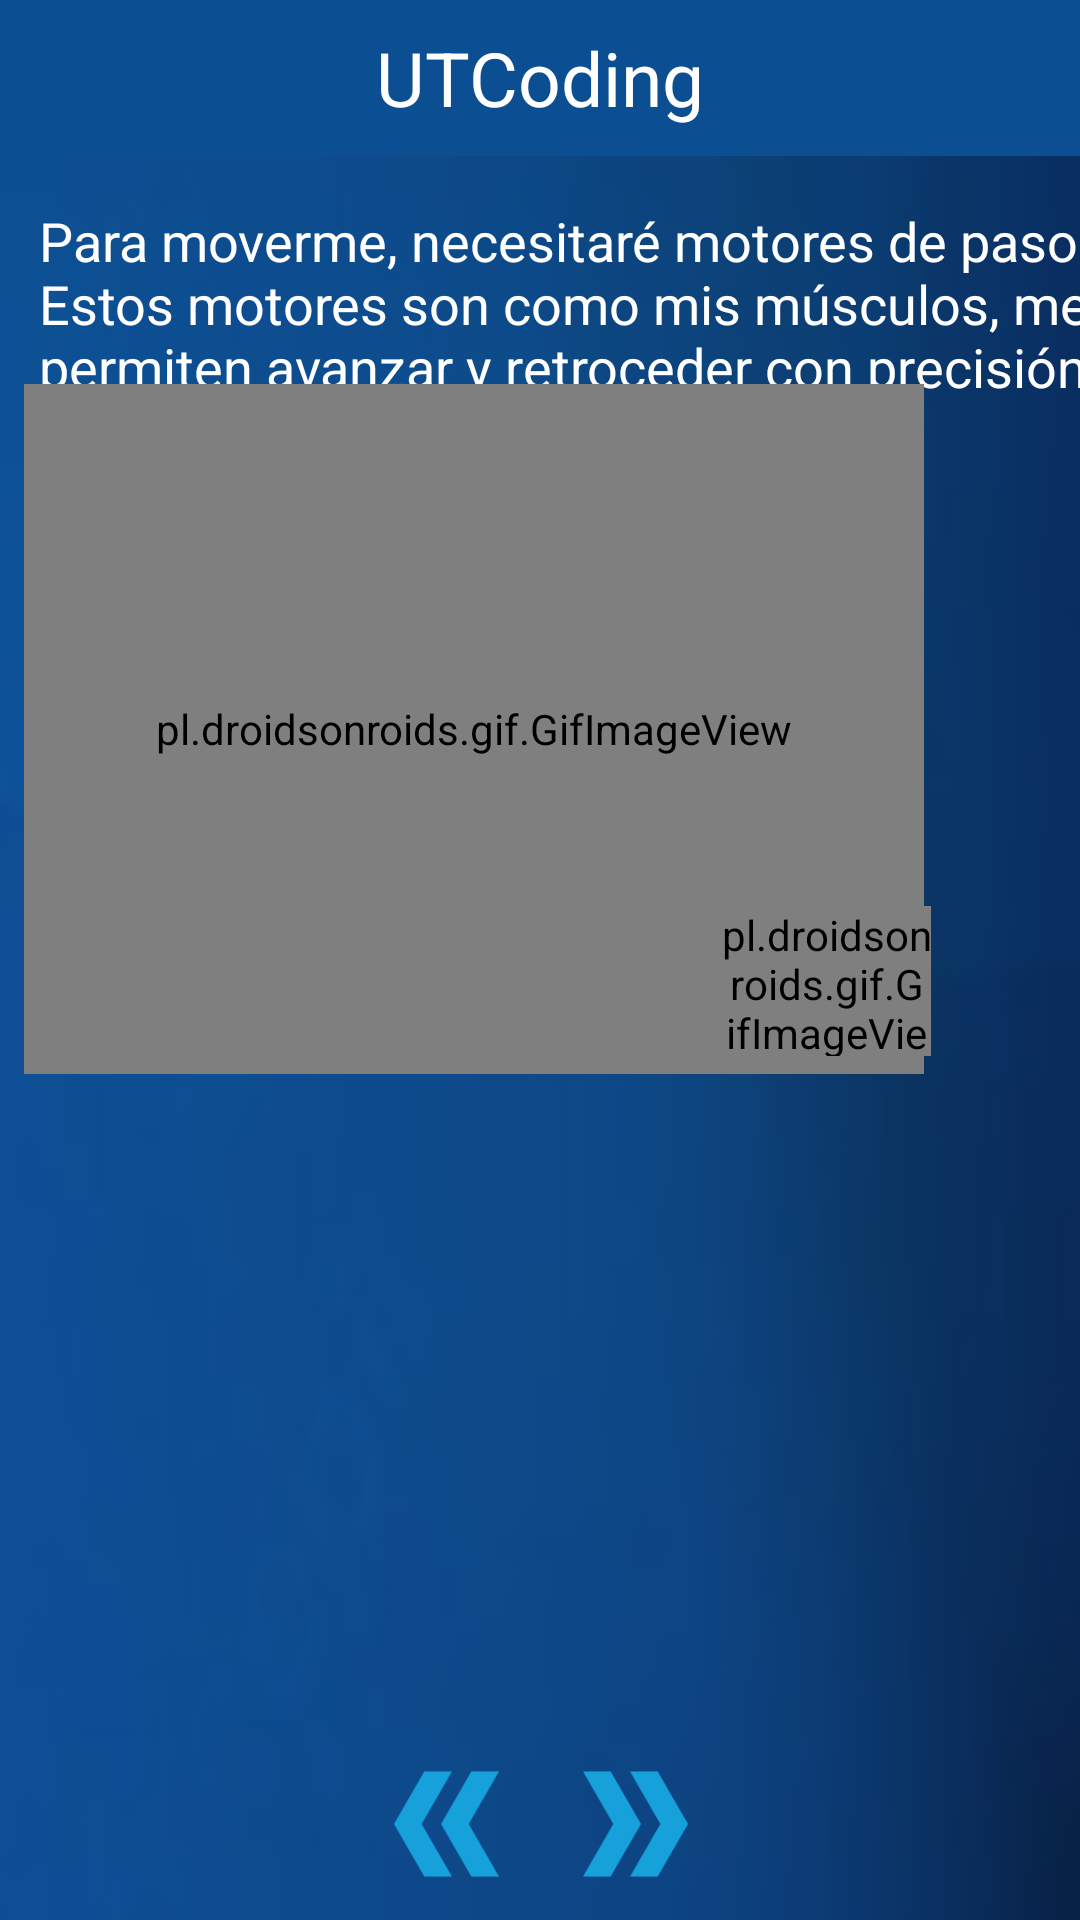

Screen size 1080×1920. Icon name, then its center in pixels as point (x, y):
regresar: point (446, 1824)
siguiente: point (635, 1824)
